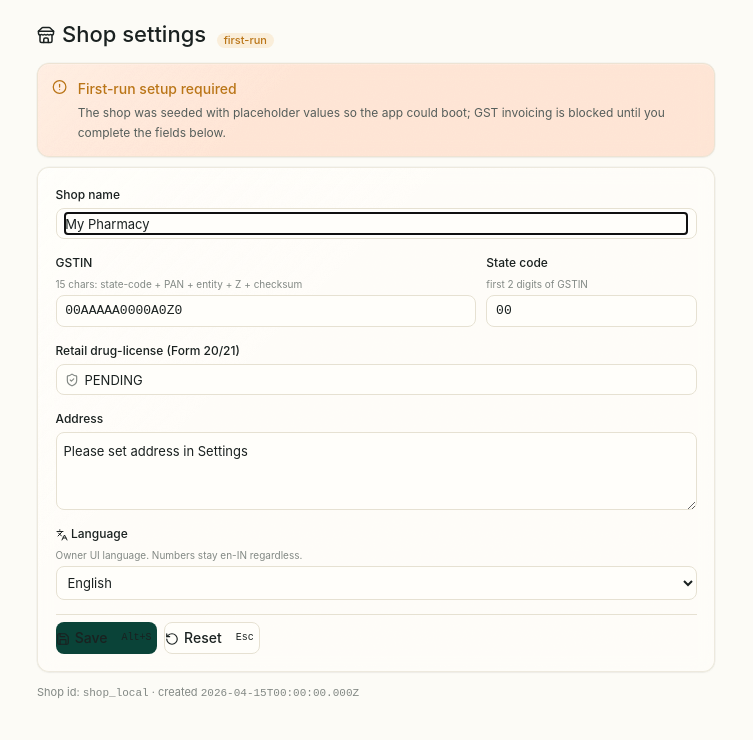
SettingsScreen (F5b) › state_code input strips non-digits
Replace the text in the field with test id "f-state" with "M2H7" at (591, 312), box [496,302,687,322]
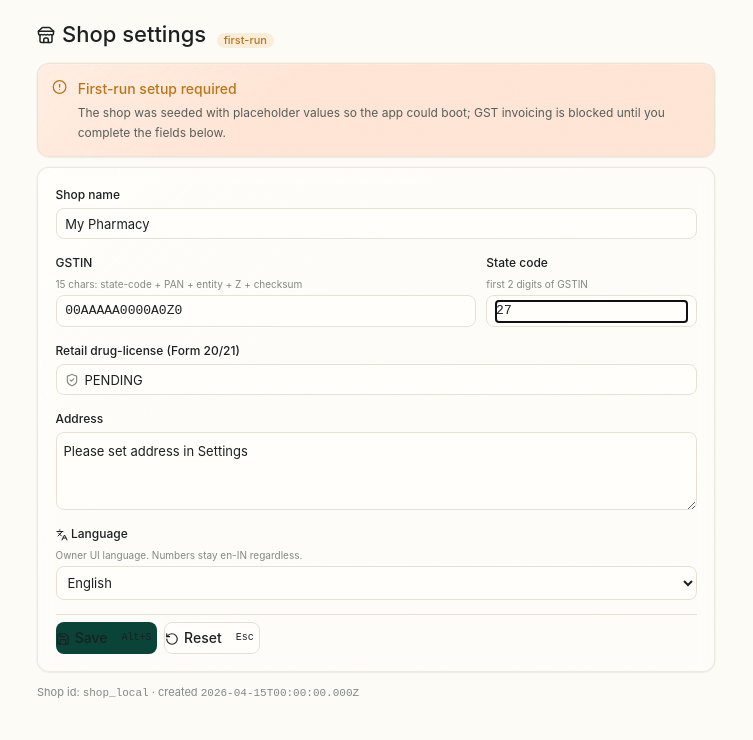
Check: the field with test id "f-state" holds "27", box [496,302,687,322]
